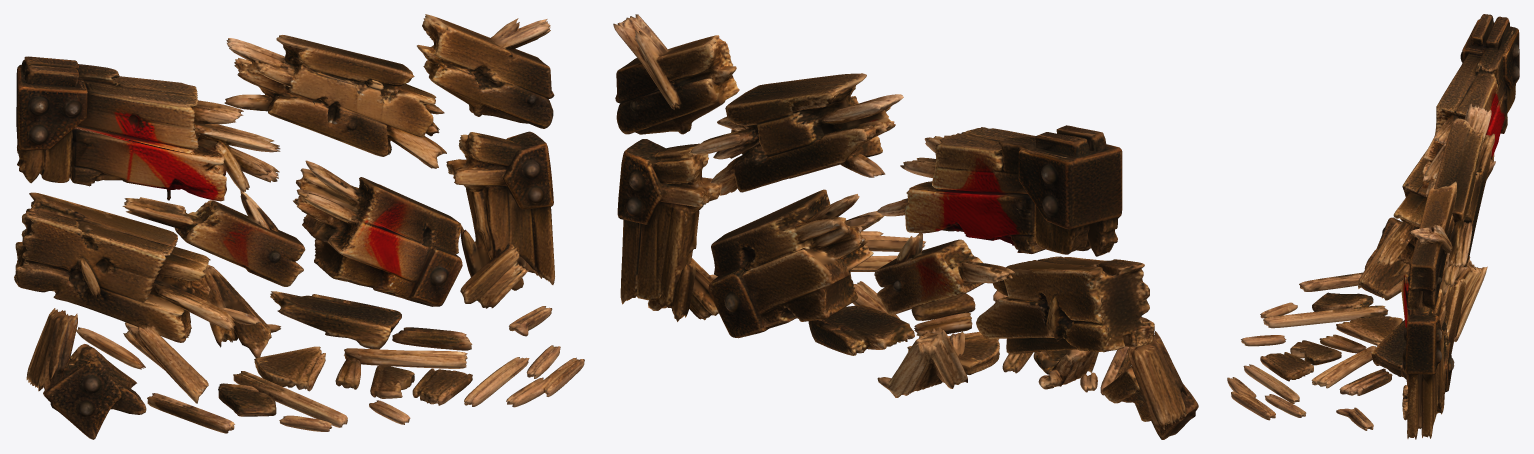
The model's file is splinter_a.glb.
The picture shows the model from 3 angles, left to right: view 1: azimuth 30°, elevation 25°; view 2: azimuth 150°, elevation 25°; view 3: azimuth 270°, elevation 25°; orthographic projection. The views are drawn at different scales.
Visible parts, largest first — view 1: Mesh_0; view 2: Mesh_0; view 3: Mesh_0.
Boxes of the visible parts, left/top/right/bottom form: Mesh_0: left=14, top=14, right=584, bottom=439; Mesh_0: left=613, top=14, right=1198, bottom=439; Mesh_0: left=1227, top=14, right=1519, bottom=439.
Bounding box in the file's own units: 1.04 × 0.6219 × 0.6301.
Materials: 1 (1 with a texture image).
